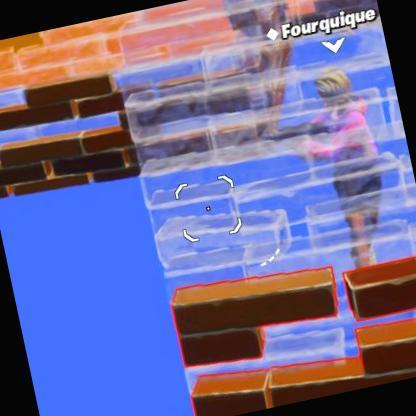person: (289, 56, 412, 300)
